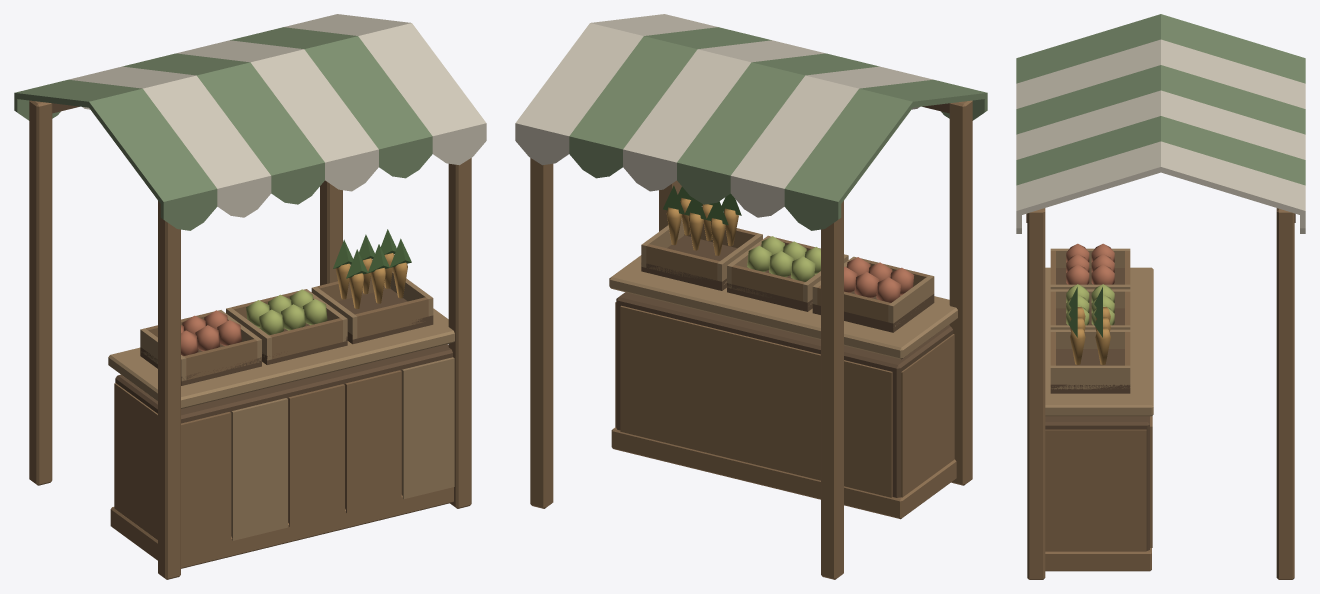
File: stall_veg.glb
3 views of the same model, side by side, from view 1: azimuth 30°, elevation 25°; view 2: azimuth 150°, elevation 25°; view 3: azimuth 270°, elevation 25° (orthographic). The views are drawn at different scales.
Parts seen in each view (by area): view 1: stall_veg; view 2: stall_veg; view 3: stall_veg.
Boxes of the visible parts, box(x1,y1,x2,y2) form: stall_veg: box(14, 14, 486, 579); stall_veg: box(515, 14, 987, 579); stall_veg: box(1016, 14, 1305, 579).
Size of the model in its own units: 2 by 2.55 by 1.6.
